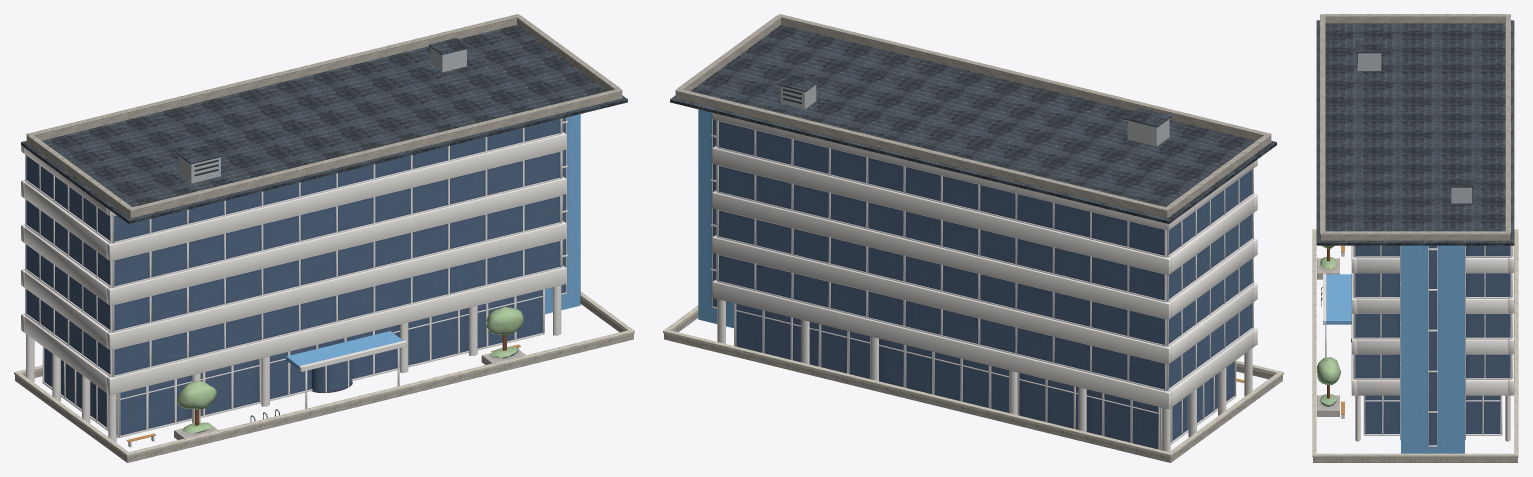
The model's file is ov-bldA.glb.
3 renders of one model, left to right at view 1: azimuth 30°, elevation 25°; view 2: azimuth 150°, elevation 25°; view 3: azimuth 270°, elevation 25°, orthographic. The views are drawn at different scales.
Visible parts, largest first — view 1: office-building_facade, bldA_roof_slab, office-building_shell, office-building_body, bldA_plinth, bldA_parapet_S, bldA_plinth_cap, bldA_parapet_N, bldA_parapet_cap_S, bldA_parapet_cap_N, bldA_roof_equip_1, bldA_parapet_W (+4 smaller); view 2: office-building_facade, bldA_roof_slab, office-building_shell, office-building_body, bldA_plinth, bldA_parapet_N, bldA_plinth_cap, bldA_parapet_S, bldA_parapet_cap_N, bldA_parapet_cap_S, bldA_roof_equip_1, bldA_parapet_W (+3 smaller); view 3: bldA_roof_slab, office-building_facade, office-building_shell, office-building_body, bldA_plinth_cap, bldA_parapet_cap_S, bldA_parapet_cap_N, bldA_parapet_E, bldA_parapet_W, bldA_plinth, bldA_parapet_cap_E, bldA_parapet_cap_W (+4 smaller).
Boxes of the visible parts, x1,y1,x2,y2 form: office-building_facade: [25, 114, 580, 377]; bldA_roof_slab: [21, 25, 627, 223]; office-building_shell: [21, 132, 566, 395]; office-building_body: [26, 285, 561, 447]; bldA_plinth: [15, 298, 633, 462]; bldA_parapet_S: [128, 91, 622, 218]; bldA_plinth_cap: [14, 291, 634, 456]; bldA_parapet_N: [26, 18, 516, 143]; bldA_parapet_cap_S: [128, 88, 622, 211]; bldA_parapet_cap_N: [26, 14, 520, 135]; bldA_roof_equip_1: [178, 156, 220, 183]; bldA_parapet_W: [29, 138, 128, 216]; office-building_facade: [698, 109, 1253, 391]; bldA_roof_slab: [670, 25, 1276, 223]; office-building_shell: [712, 113, 1257, 409]; office-building_body: [717, 299, 1252, 451]; bldA_plinth: [664, 311, 1282, 462]; bldA_parapet_N: [675, 91, 1169, 218]; bldA_plinth_cap: [663, 305, 1283, 456]; bldA_parapet_S: [781, 18, 1271, 143]; bldA_parapet_cap_N: [675, 88, 1169, 211]; bldA_parapet_cap_S: [777, 14, 1271, 135]; bldA_roof_equip_1: [1127, 119, 1169, 146]; bldA_parapet_W: [1169, 138, 1268, 216]; bldA_roof_slab: [1316, 20, 1514, 245]; office-building_facade: [1353, 245, 1512, 453]; office-building_shell: [1351, 245, 1514, 395]; office-building_body: [1317, 245, 1510, 441]; bldA_plinth_cap: [1312, 229, 1518, 457]; bldA_parapet_cap_S: [1320, 14, 1325, 233]; bldA_parapet_cap_N: [1505, 14, 1510, 233]; bldA_parapet_E: [1324, 234, 1506, 240]; bldA_parapet_W: [1325, 17, 1505, 23]; bldA_plinth: [1313, 457, 1517, 462]; bldA_parapet_cap_E: [1324, 231, 1506, 234]; bldA_parapet_cap_W: [1325, 14, 1505, 16].
Bounding box in the file's own units: 40.7 × 20.02 × 15.7.
Materials: 8 (6 with a texture image).
